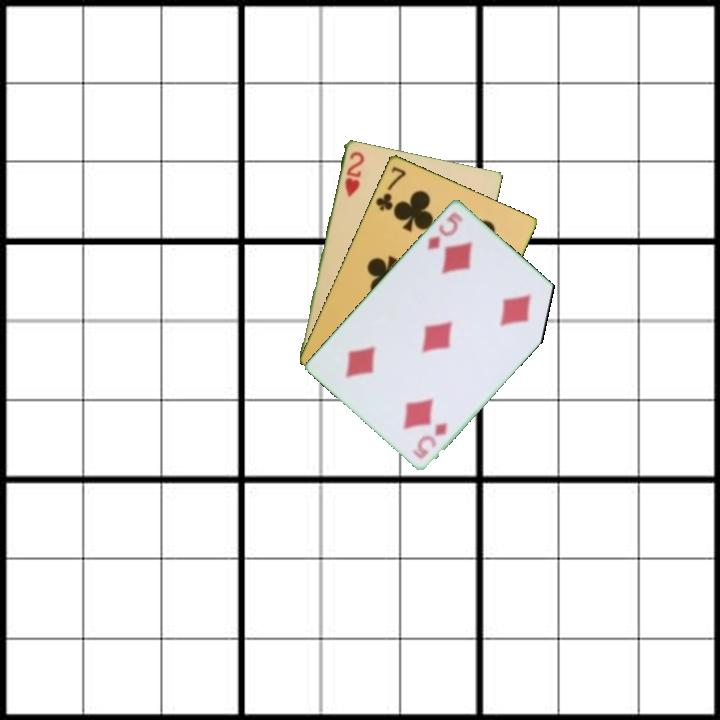2h: (341, 147, 367, 200)
5d: (423, 208, 466, 252), (413, 418, 450, 456)
7c: (372, 163, 409, 213)
